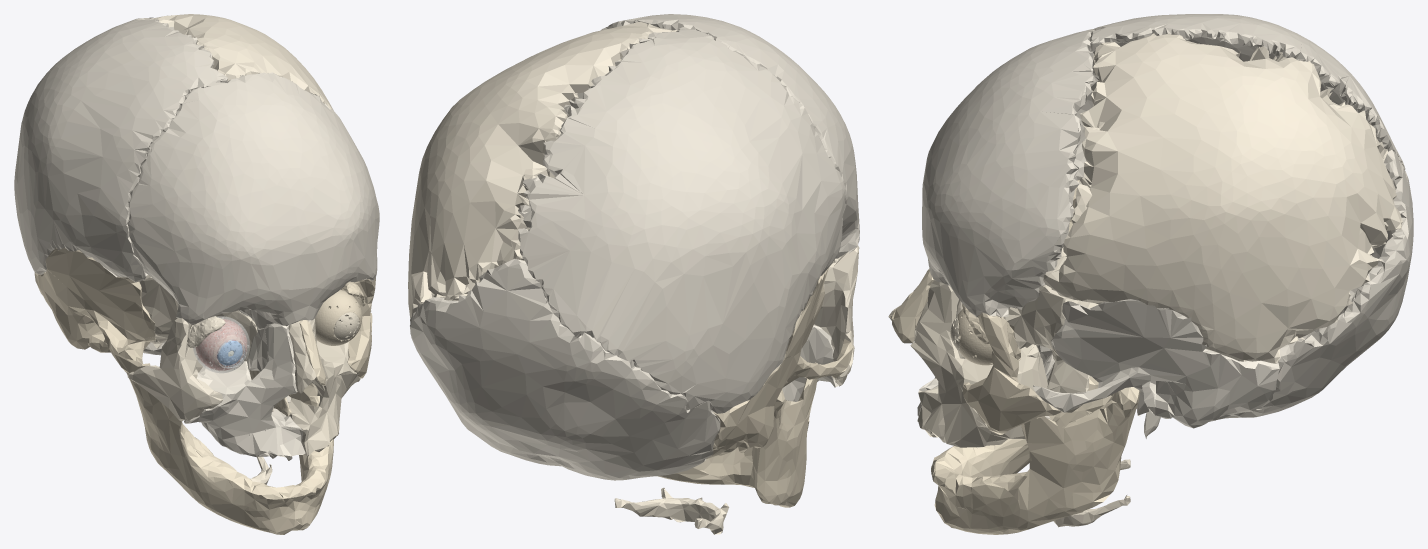
The model's file is cranio.glb.
3 views of the same model, side by side, from view 1: azimuth 30°, elevation 25°; view 2: azimuth 150°, elevation 25°; view 3: azimuth 270°, elevation 25° (orthographic). The views are drawn at different scales.
Visible parts, largest first — view 1: frontal bone, right parietal bone, mandible, right temporal bone, right maxilla, left parietal bone, right cheek, left maxilla, sphenoid bone, right sclera, left cheek, left sclera (+9 smaller); view 2: right parietal bone, occipital bone, left parietal bone, frontal bone, mandible, right temporal bone, right cheek, hyoid bone, right maxilla; view 3: left parietal bone, frontal bone, mandible, left temporal bone, occipital bone, right parietal bone, left maxilla, left cheek, sphenoid bone, left nasal bone, left sclera, hyoid bone.
Boxes of the visible parts, x1,y1,x2,y2 form: frontal bone: (128,72,379,329); right parietal bone: (14,17,227,282); mandible: (118,341,333,534); right temporal bone: (34,247,156,375); right maxilla: (184,323,305,460); left parietal bone: (154,14,333,110); right cheek: (127,318,223,421); left maxilla: (275,318,360,455); sphenoid bone: (139,275,227,372); right sclera: (193,316,249,373); left cheek: (341,277,375,378); left sclera: (315,289,362,345); right parietal bone: (518,27,845,413); occipital bone: (410,258,720,480); left parietal bone: (408,21,677,318); frontal bone: (600,14,859,258); mandible: (657,362,817,507); right temporal bone: (705,267,852,459); right cheek: (814,245,859,386); hyoid bone: (614,487,729,534); right maxilla: (782,325,839,401); left parietal bone: (1043,33,1402,363); frontal bone: (922,29,1098,317); mandible: (931,376,1140,534); left temporal bone: (1033,299,1279,438); occipital bone: (1216,149,1413,419); right parietal bone: (1074,14,1405,180); left maxilla: (910,280,1047,448); left cheek: (963,312,1061,434); sphenoid bone: (1003,232,1098,412); left nasal bone: (891,269,934,343); left sclera: (957,309,1003,365); hyoid bone: (1053,459,1130,527).
Bounding box in the file's own units: 150 × 215 × 209.
